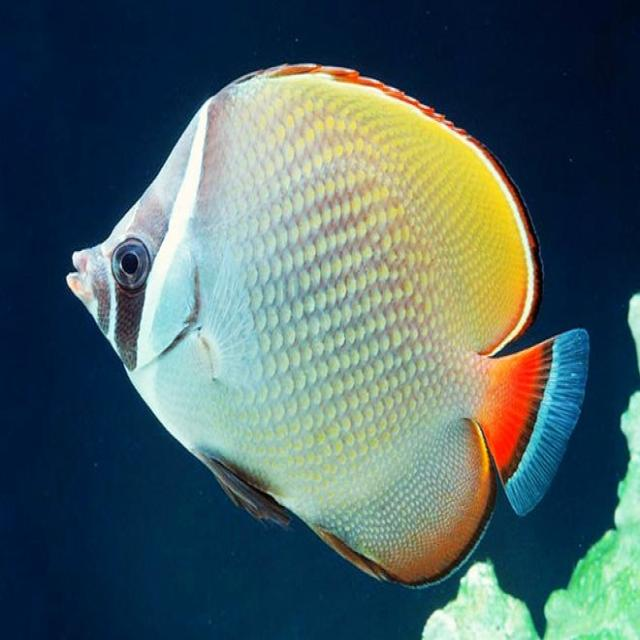ButterflyFish: (69, 61, 584, 589)
